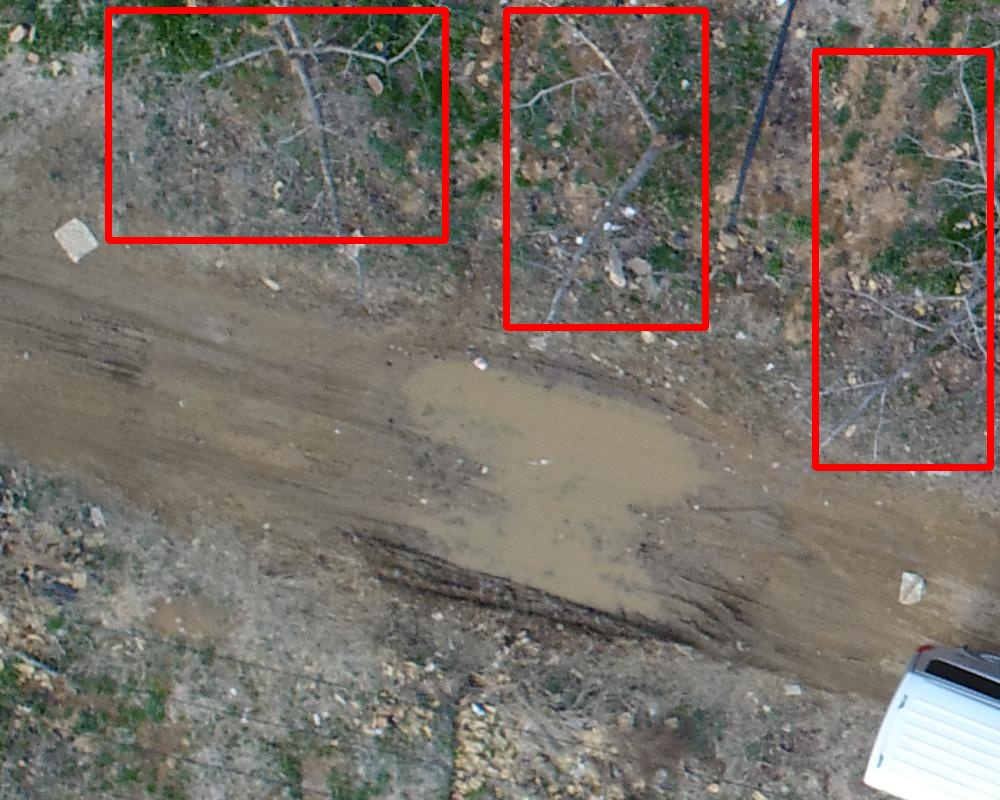apple: (108, 10, 445, 240), (815, 51, 990, 467), (506, 10, 705, 327)
